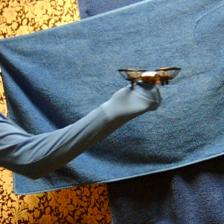drone: (118, 63, 183, 87)
